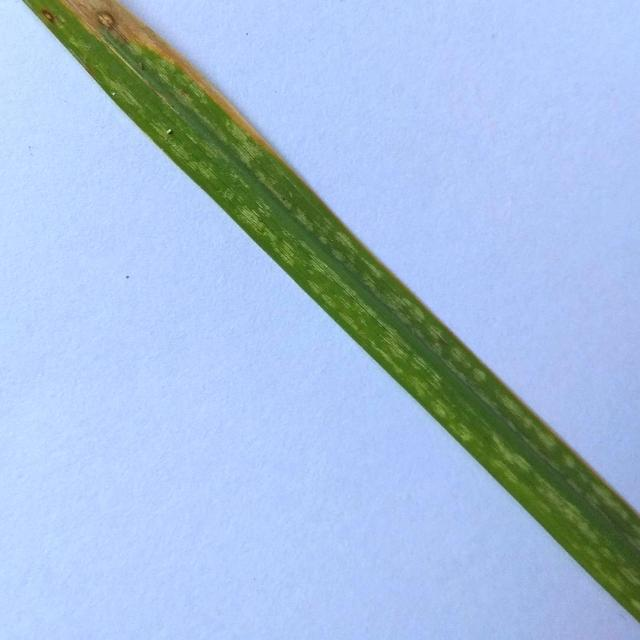Blast: (90, 5, 138, 28), (40, 6, 58, 22)
